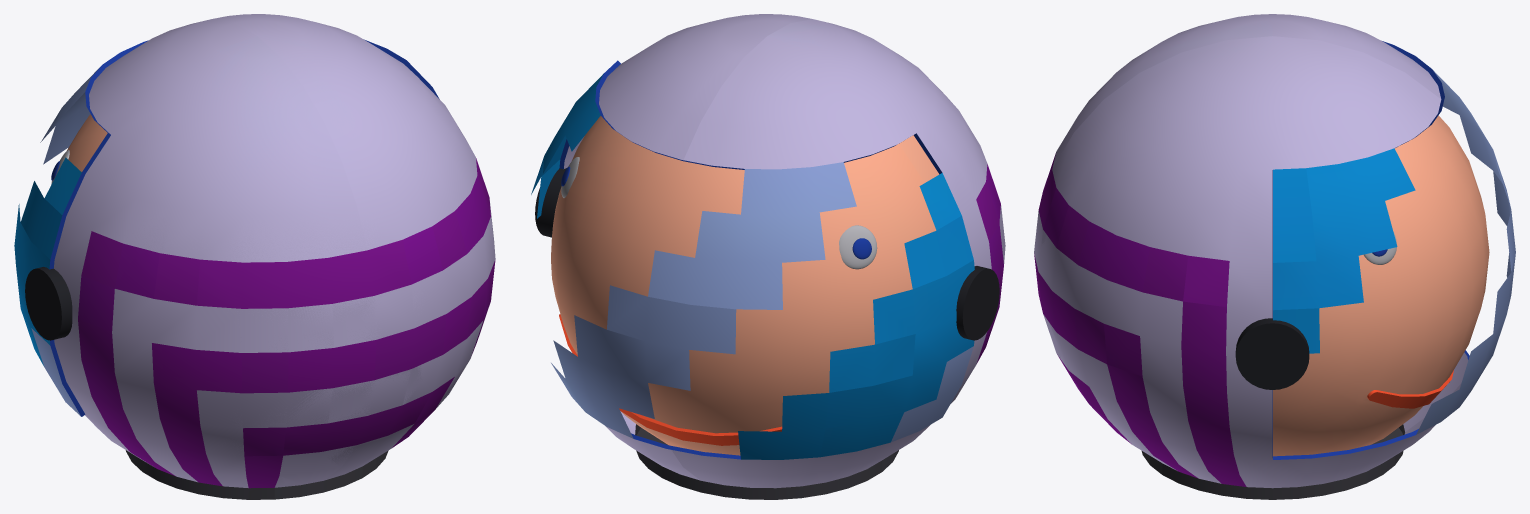
The model's file is AstronautBall.fbx.
3 views of the same model, side by side, from view 1: azimuth 30°, elevation 25°; view 2: azimuth 150°, elevation 25°; view 3: azimuth 270°, elevation 25° (orthographic).
Visible parts, largest first — view 1: Helmet, Head; view 2: Helmet, Head, Eye; view 3: Helmet, Head.
Boxes of the visible parts, box(x1,y1,x2,y2) form: Helmet: box(14, 14, 495, 499); Head: box(67, 114, 107, 171); Helmet: box(531, 14, 1005, 499); Head: box(551, 116, 939, 455); Eye: box(561, 157, 877, 269); Helmet: box(1034, 14, 1515, 499); Head: box(1273, 115, 1489, 456).
Size of the model in its own units: 1.14 by 1.11 by 1.05.
